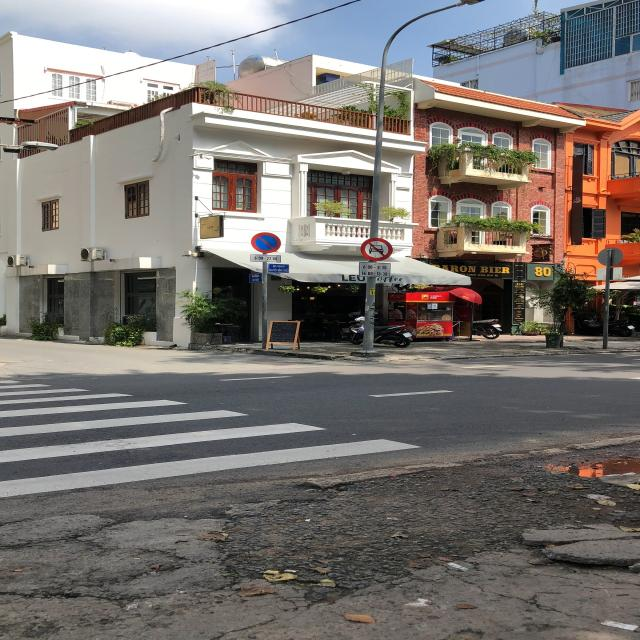Bien bao cam do xe: (248, 231, 281, 253)
Bien bao cam xe oto: (358, 236, 396, 261)
